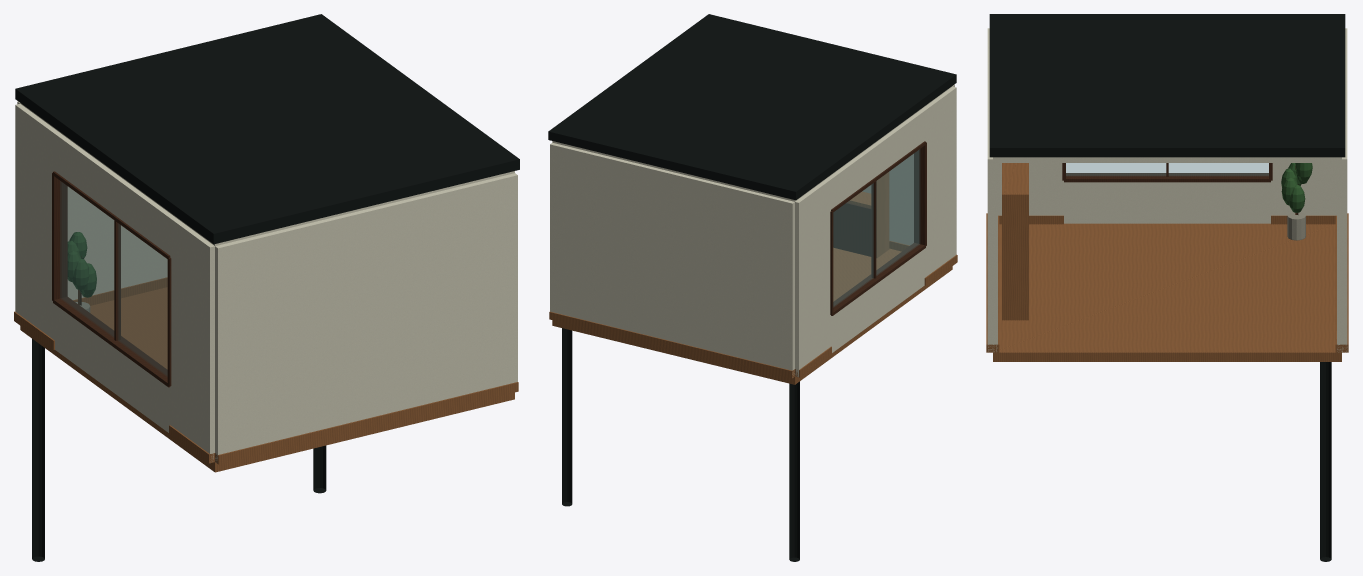
The model's file is office_left.glb.
3 views of the same model, side by side, from view 1: azimuth 30°, elevation 25°; view 2: azimuth 150°, elevation 25°; view 3: azimuth 270°, elevation 25° (orthographic). The views are drawn at different scales.
Visible parts, largest first — view 1: V2_office_left_plaster.005, V2_office_left_metal.005, V2_office_left_glass.005, V2_office_left_oak.005, V2_office_left_walnut.005, V2_office_left_leaf.005; view 2: V2_office_left_plaster.005, V2_office_left_metal.005, V2_office_left_glass.005, V2_office_left_oak.005, V2_office_left_walnut.005; view 3: V2_office_left_metal.005, V2_office_left_oak.005, V2_office_left_plaster.005, V2_office_left_glass.005, V2_office_left_walnut.005, V2_office_left_leaf.005, V2_office_left_stone.005.
Boxes of the visible parts, left/top/right/bottom form: V2_office_left_plaster.005: left=15, top=101, right=517, bottom=462; V2_office_left_metal.005: left=15, top=14, right=519, bottom=561; V2_office_left_glass.005: left=60, top=181, right=167, bottom=375; V2_office_left_oak.005: left=14, top=277, right=518, bottom=472; V2_office_left_walnut.005: left=52, top=171, right=171, bottom=387; V2_office_left_leaf.005: left=67, top=232, right=96, bottom=297; V2_office_left_plaster.005: left=550, top=84, right=956, bottom=377; V2_office_left_metal.005: left=548, top=14, right=956, bottom=561; V2_office_left_glass.005: left=833, top=150, right=919, bottom=306; V2_office_left_oak.005: left=549, top=172, right=957, bottom=384; V2_office_left_walnut.005: left=830, top=141, right=926, bottom=315; V2_office_left_metal.005: left=989, top=14, right=1345, bottom=561; V2_office_left_oak.005: left=986, top=163, right=1348, bottom=361; V2_office_left_plaster.005: left=987, top=28, right=1347, bottom=352; V2_office_left_glass.005: left=1066, top=163, right=1268, bottom=175; V2_office_left_walnut.005: left=1062, top=163, right=1272, bottom=182; V2_office_left_leaf.005: left=1281, top=163, right=1312, bottom=212; V2_office_left_stone.005: left=1287, top=212, right=1305, bottom=240.
Bounding box in the file's own units: 4.96 × 7.12 × 5.6.
Materials: 12 (5 with a texture image).
